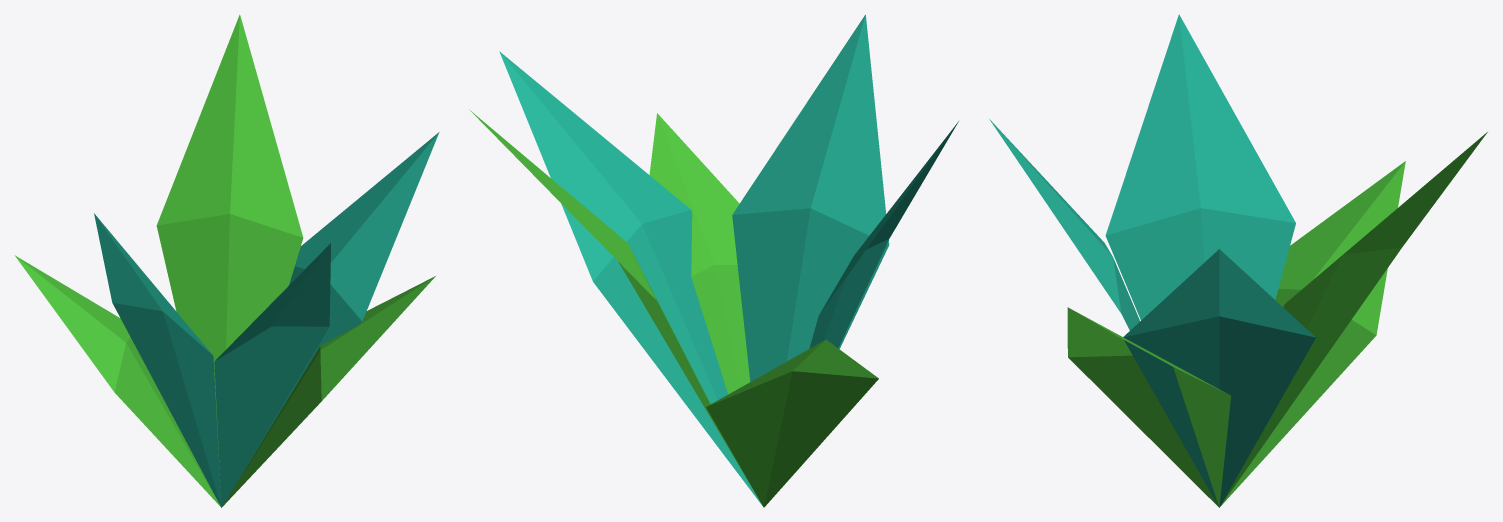
The model's file is terra_plants_a.fbx.
The picture shows the model from 3 angles, left to right: view 1: azimuth 30°, elevation 25°; view 2: azimuth 150°, elevation 25°; view 3: azimuth 270°, elevation 25°; orthographic projection. The views are drawn at different scales.
Visible parts, largest first — view 1: terra_plants_a; view 2: terra_plants_a; view 3: terra_plants_a.
Boxes of the visible parts, x1,y1,x2,y2 form: terra_plants_a: [14, 14, 439, 507]; terra_plants_a: [469, 14, 958, 507]; terra_plants_a: [989, 14, 1487, 507].
Size of the model in its own units: 1 by 1 by 1.
